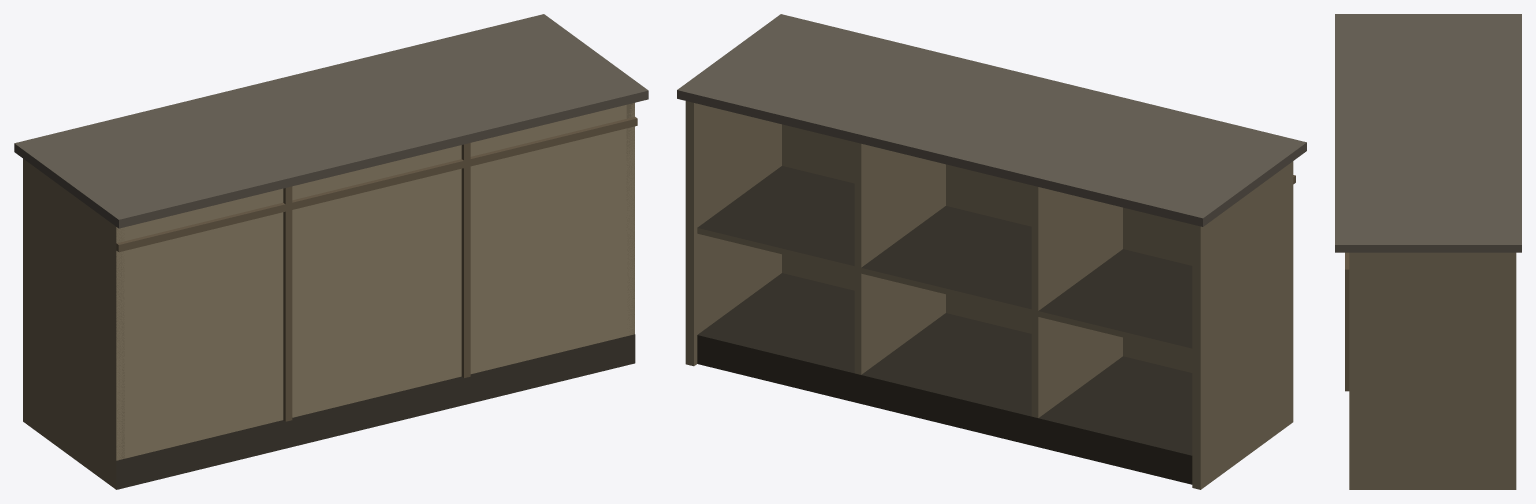
Rendered from shop-counter.glb.
The picture shows the model from 3 angles, left to right: view 1: azimuth 30°, elevation 25°; view 2: azimuth 150°, elevation 25°; view 3: azimuth 270°, elevation 25°; orthographic projection. The views are drawn at different scales.
Visible parts, largest first — view 1: shop-counter; view 2: shop-counter; view 3: shop-counter.
Boxes of the visible parts, left/top/right/bottom form: shop-counter: left=14, top=14, right=648, bottom=489; shop-counter: left=677, top=14, right=1306, bottom=489; shop-counter: left=1335, top=14, right=1521, bottom=489.
Size of the model in its own units: 1.9 by 0.9501 by 0.65.
